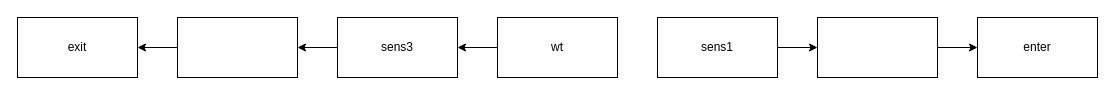
Some shapes in this 1115 by 95 pixel diagram are drawn without their labels. Here are the shapes that lost their labels. From the top down, the box of each, then its label:
(176, 16, 298, 78): sens4
(816, 16, 938, 78): sens2
